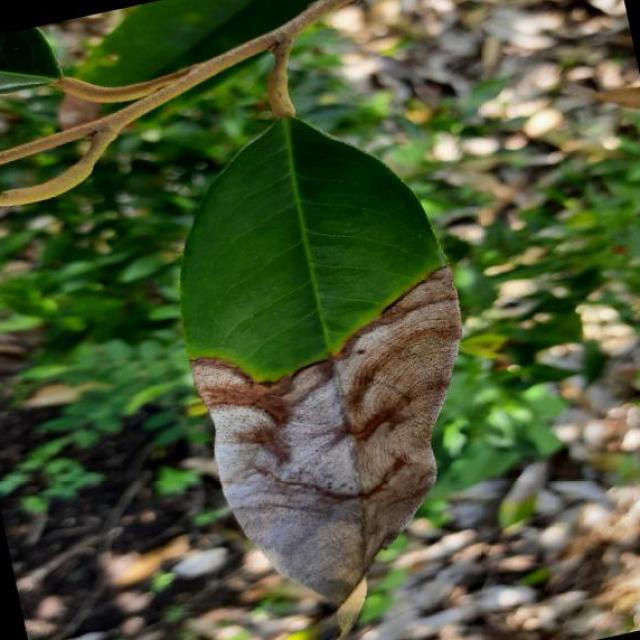Leaf Blight: (131, 67, 536, 640)
